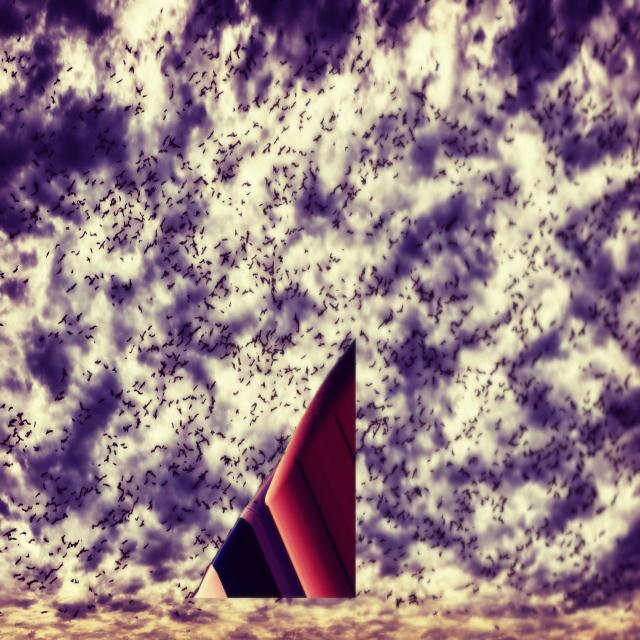airplane: (186, 337, 357, 600)
